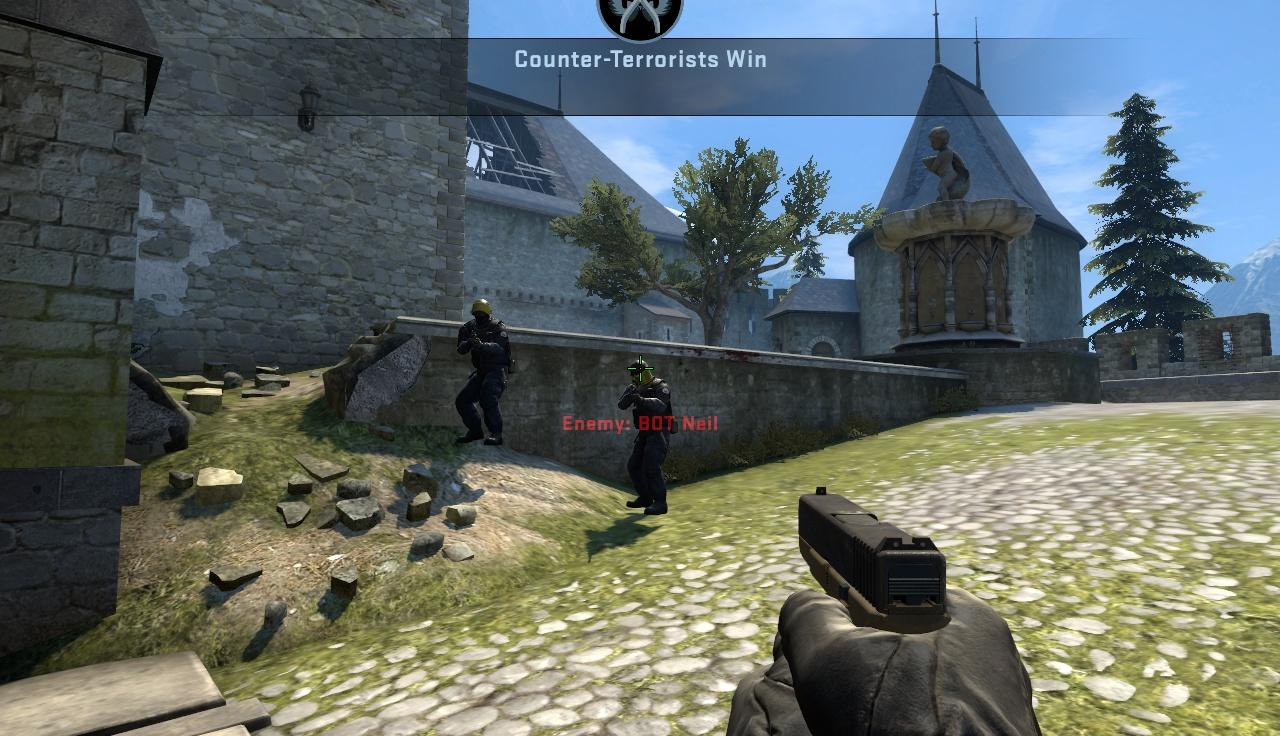ct: (457, 299, 505, 443), (624, 361, 668, 515)
cthead: (630, 363, 651, 385), (472, 299, 491, 323)
pistol: (797, 487, 1040, 736)
